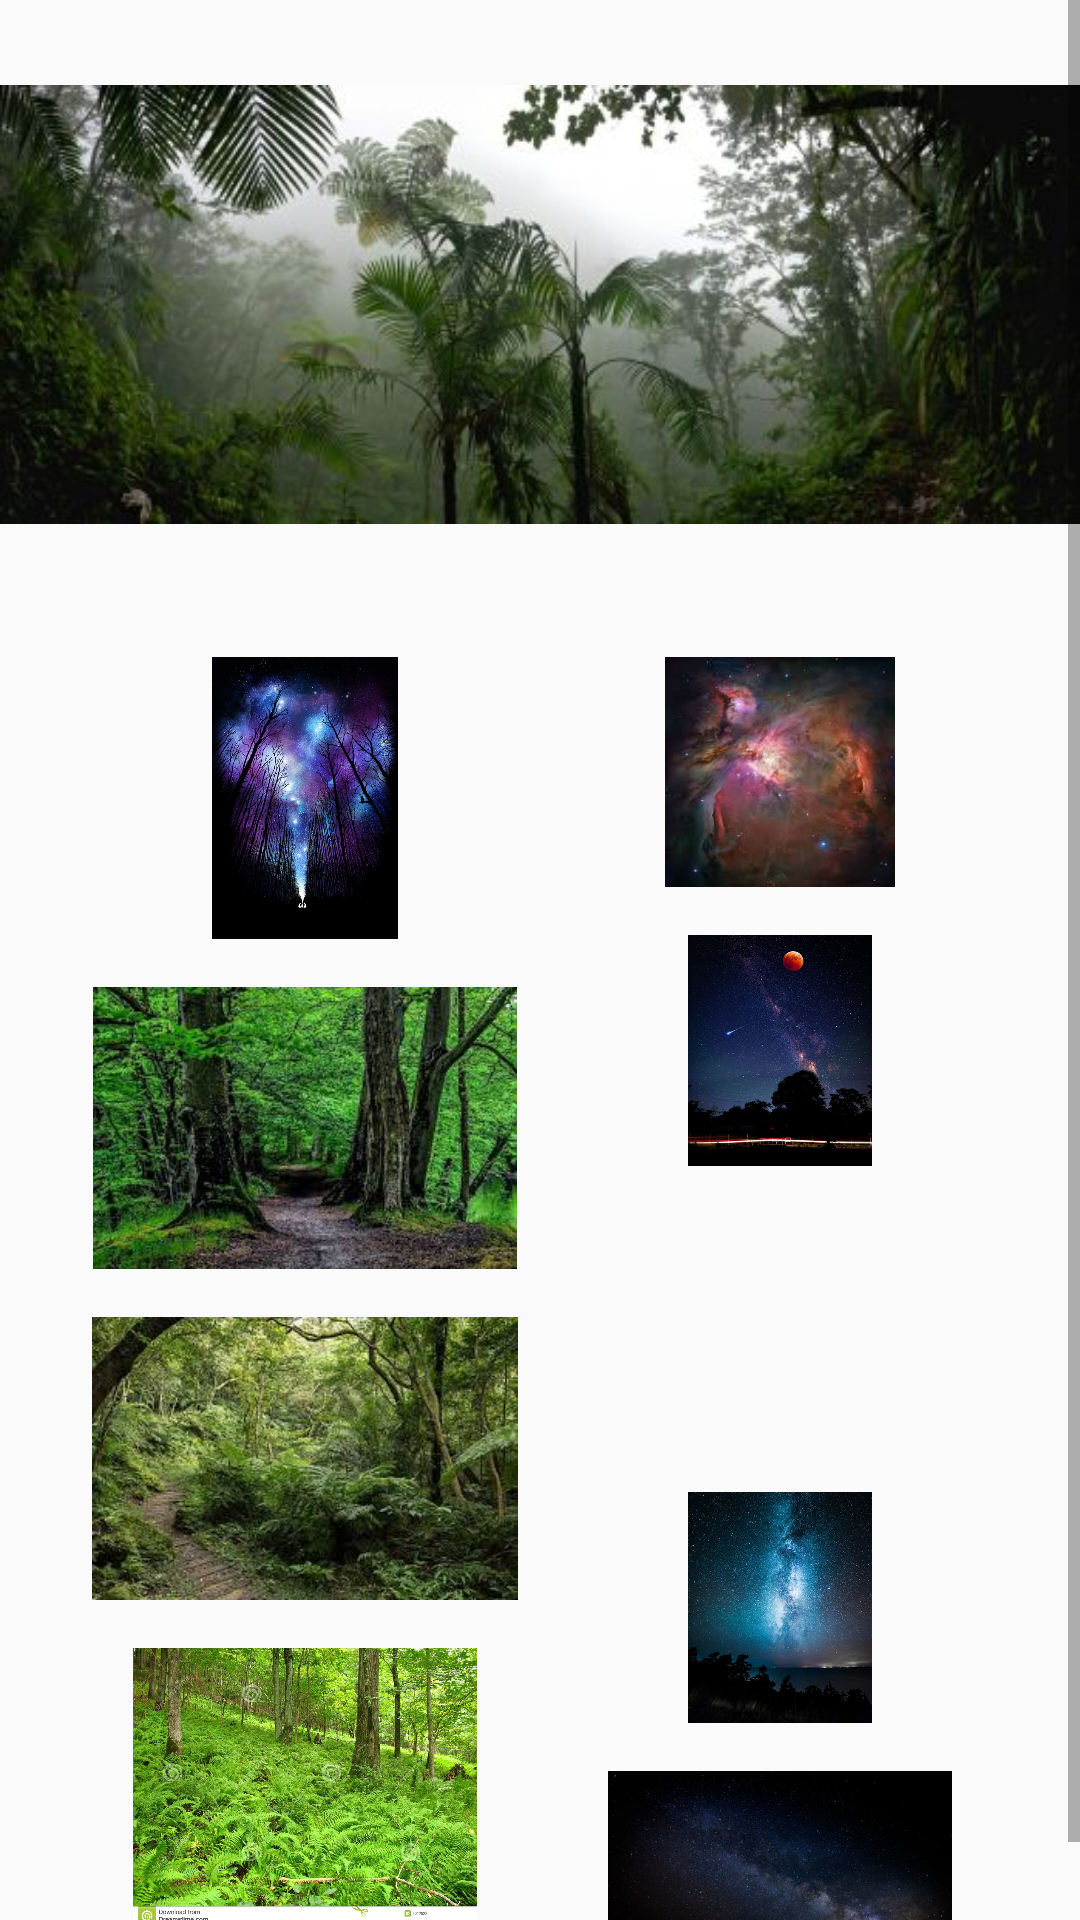

Named icons in this screenshot (1080w x 1920h) and their centers, point (x, y):
spaceforest: point (305, 798)
